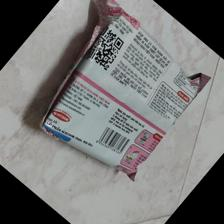Haohao: (36, 3, 214, 184)
